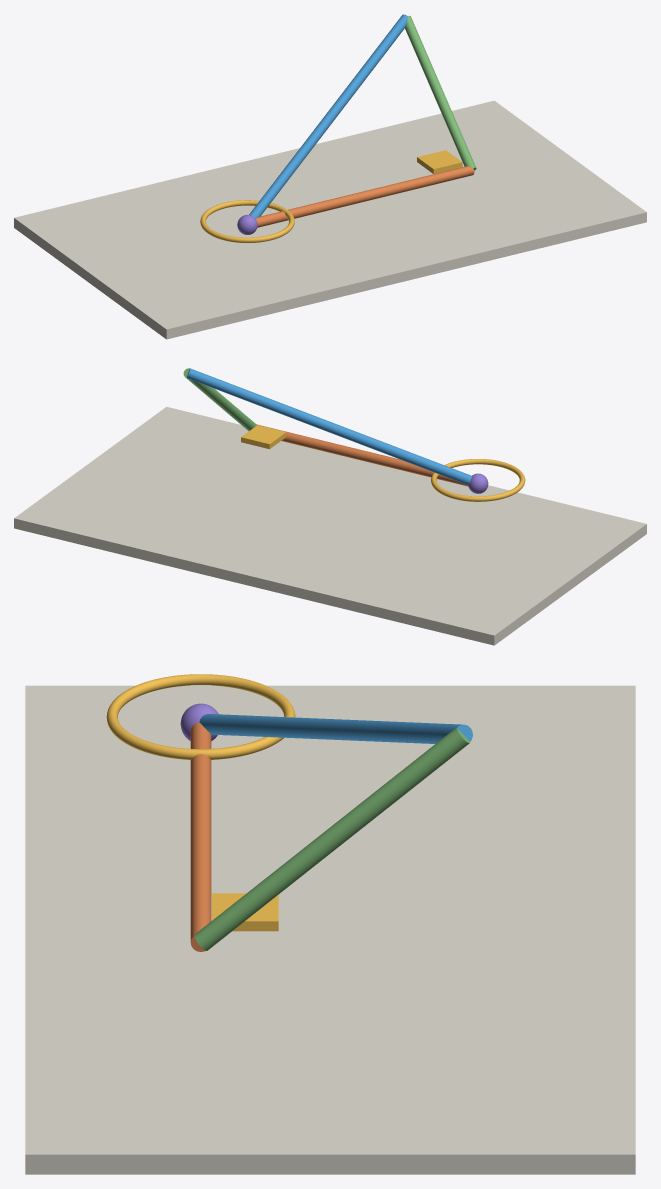
Rendered from math-advanced-math-trig-right-triangle.glb.
The picture shows the model from 3 angles, top to bottom: view 1: azimuth 30°, elevation 25°; view 2: azimuth 150°, elevation 25°; view 3: azimuth 270°, elevation 25°; orthographic projection. The views are drawn at different scales.
Parts seen in each view (by area): view 1: advanced-math-base, right-triangle-side-3, right-triangle-side-1, right-triangle-side-2, triangle-angle-arc, right-angle-square; view 2: advanced-math-base, right-triangle-side-3, right-triangle-side-1, triangle-angle-arc, right-triangle-side-2, right-angle-square; view 3: advanced-math-base, right-triangle-side-2, right-triangle-side-3, triangle-angle-arc, right-triangle-side-1, right-angle-square.
Boxes of the visible parts, <box> form: advanced-math-base: <box>14,100,646,339</box>; right-triangle-side-3: <box>249,14,407,218</box>; right-triangle-side-1: <box>256,166,474,227</box>; right-triangle-side-2: <box>405,15,476,170</box>; triangle-angle-arc: <box>200,200,294,242</box>; right-angle-square: <box>417,150,462,173</box>; advanced-math-base: <box>14,406,646,645</box>; right-triangle-side-3: <box>186,368,471,485</box>; right-triangle-side-1: <box>256,424,468,486</box>; triangle-angle-arc: <box>431,459,525,501</box>; right-triangle-side-2: <box>183,368,256,431</box>; right-angle-square: <box>241,425,286,449</box>; advanced-math-base: <box>25,685,635,1174</box>; right-triangle-side-2: <box>194,728,470,950</box>; right-triangle-side-3: <box>199,714,472,743</box>; triangle-angle-arc: <box>106,674,295,759</box>; right-triangle-side-1: <box>190,722,211,951</box>; right-angle-square: <box>212,893,278,931</box>.
Size of what is drawn, in the model's own units: 3 by 0.956 by 1.65.
